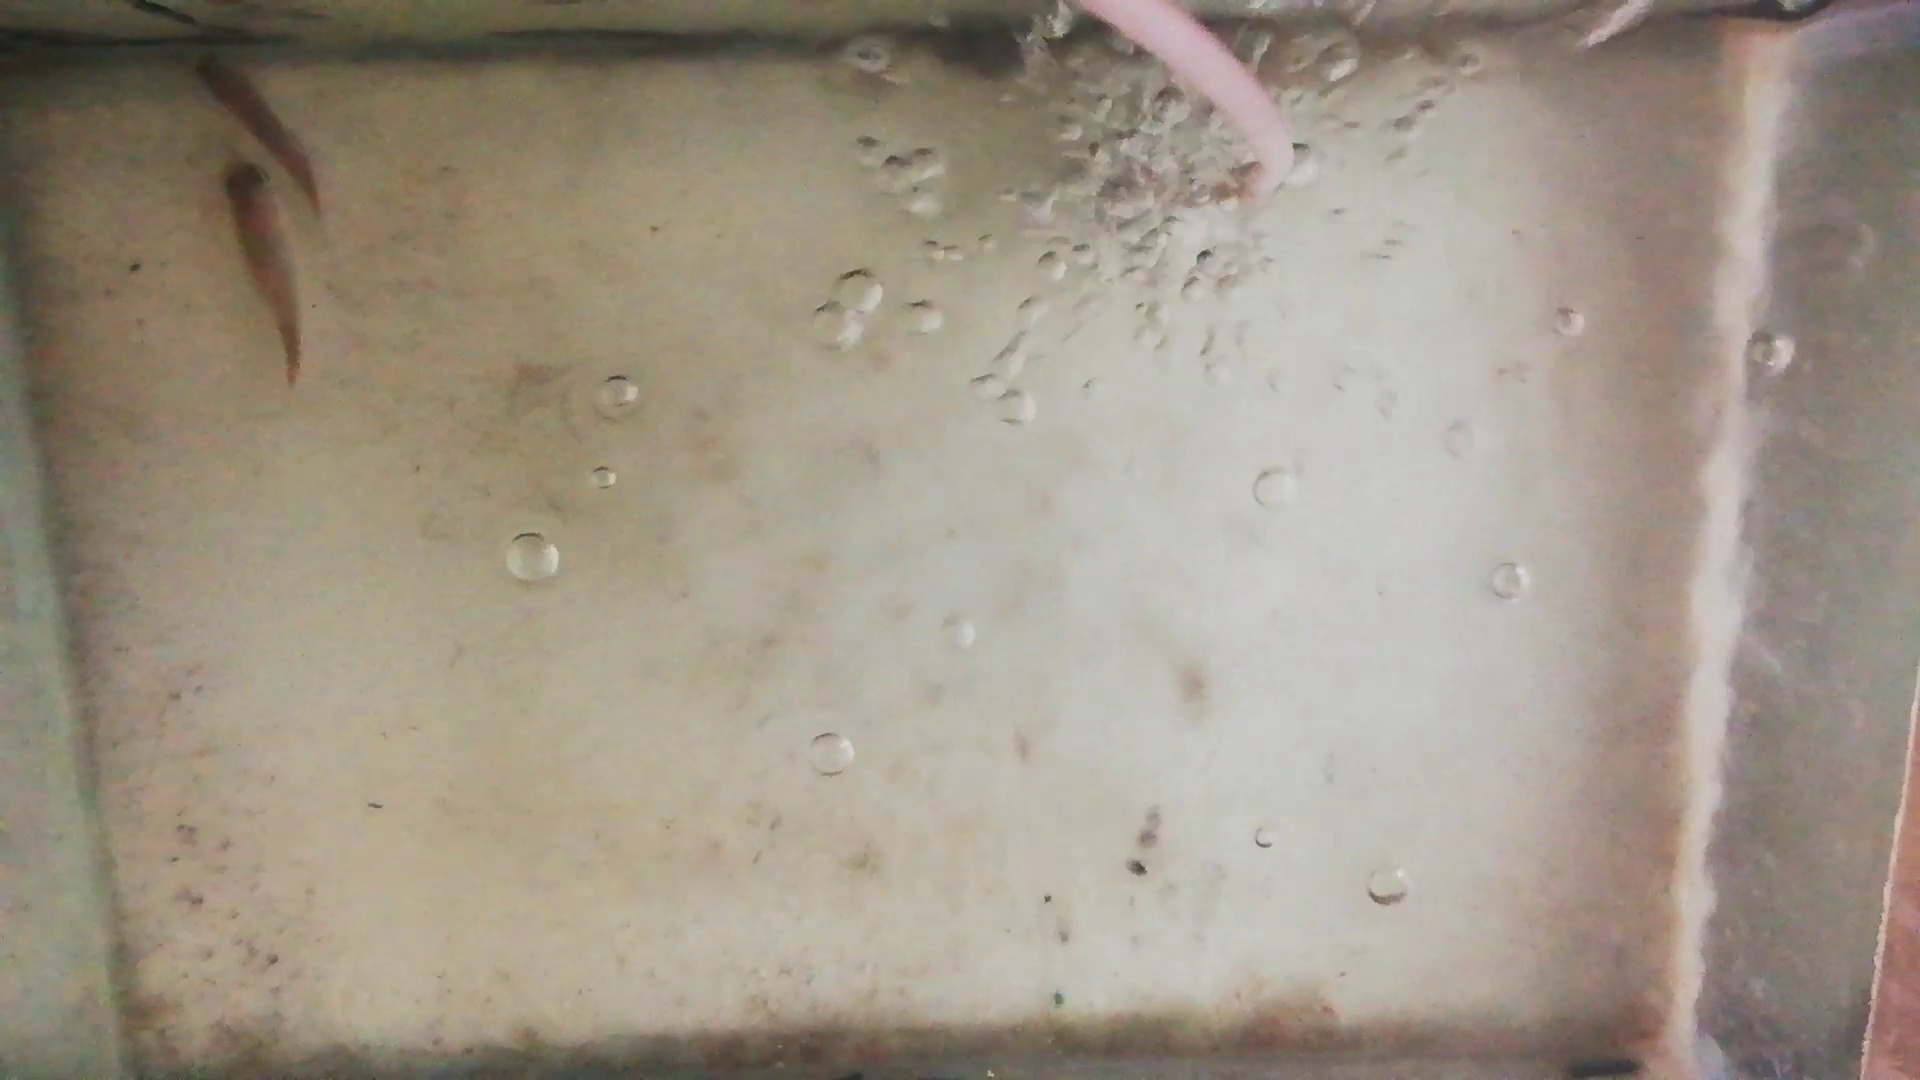fish: (195, 51, 324, 208), (218, 156, 299, 382)
